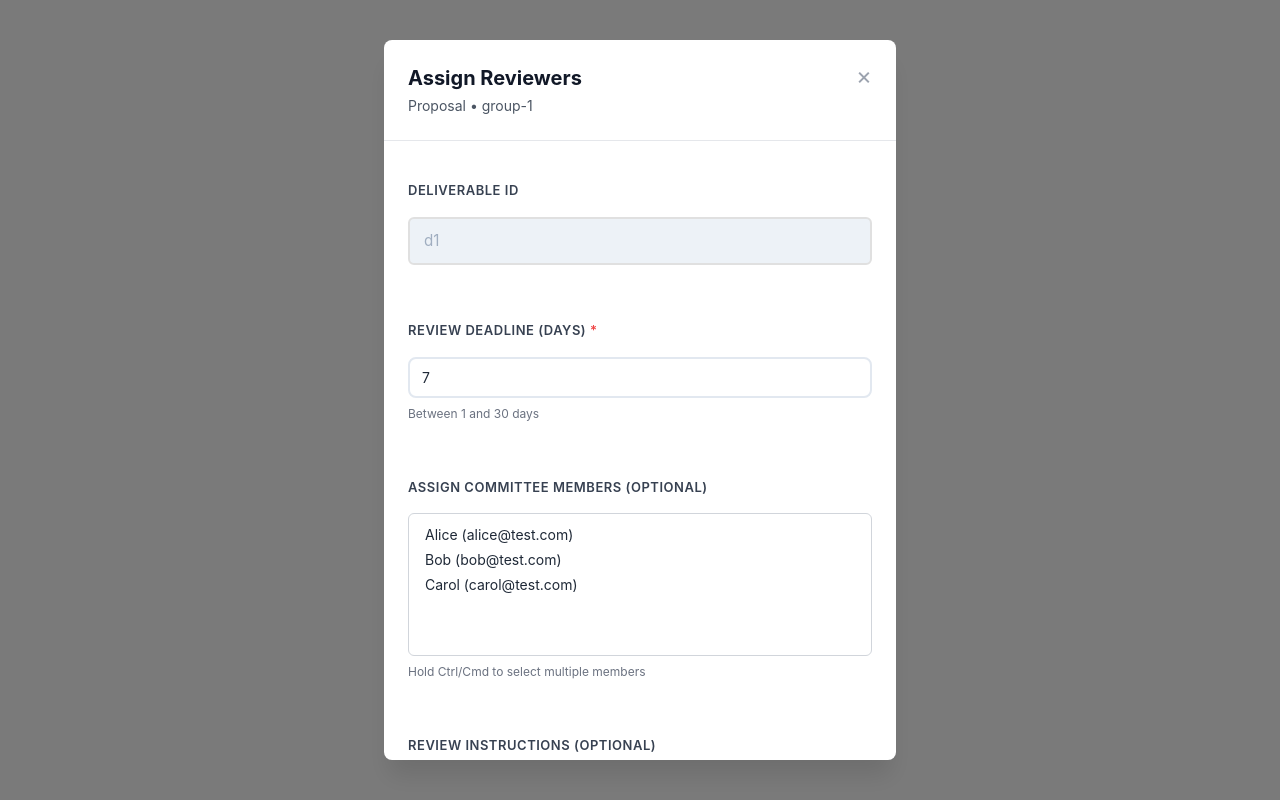
it: ReviewAssignmentForm › Error Handling › generic error message shown when code field missing
Select "Alice (alice@test.com)" in the dropdown: (640, 585) [408, 513, 872, 656]
(page scrolled)
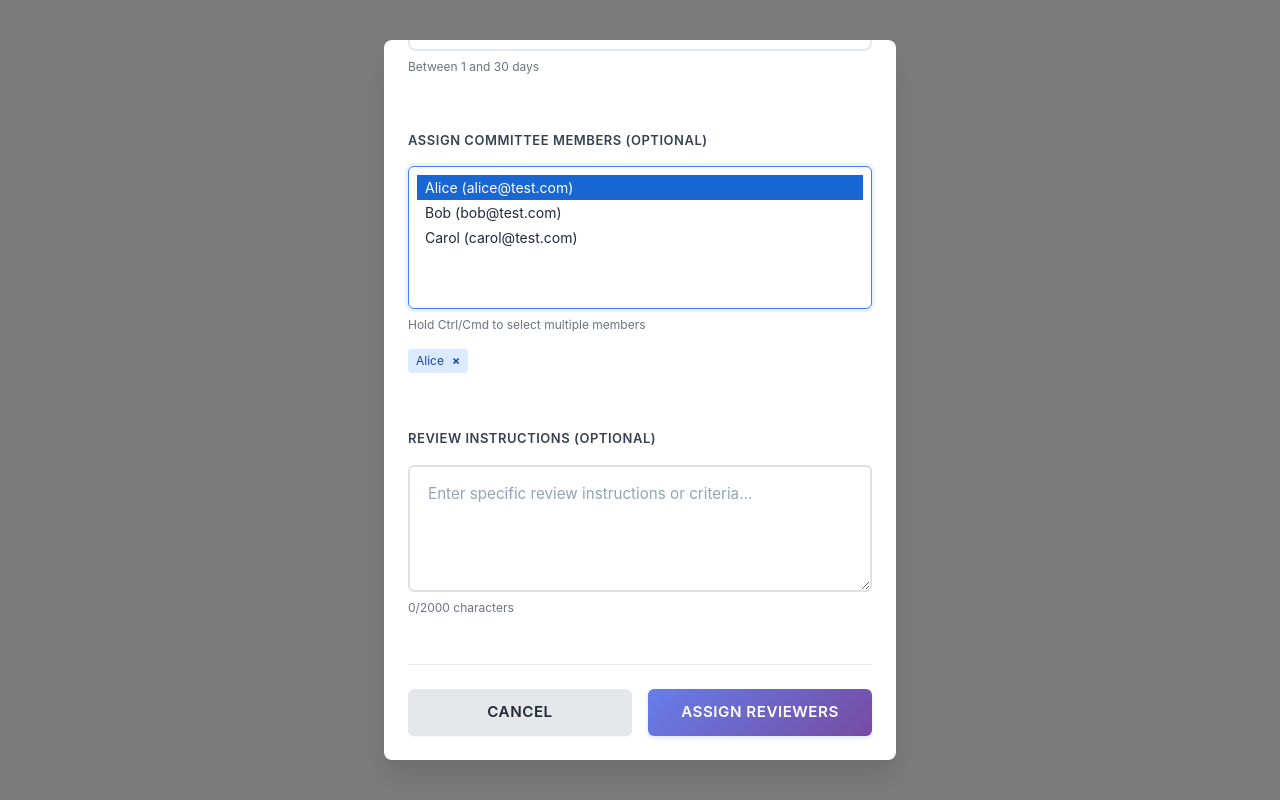
Click the button "Assign Reviewers": (760, 712) [648, 689, 872, 736]
(page scrolled)
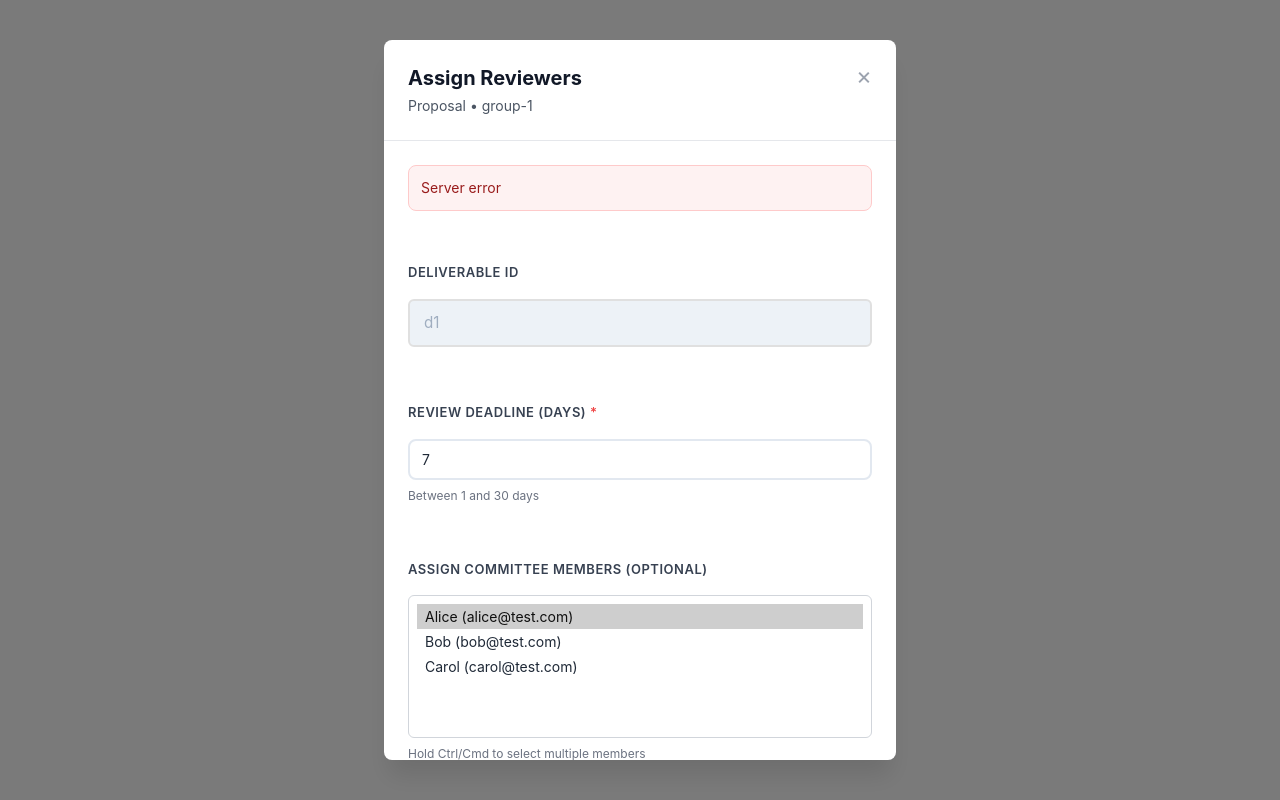
Expected: the text "Server error" is shown, [421, 179, 501, 196]
